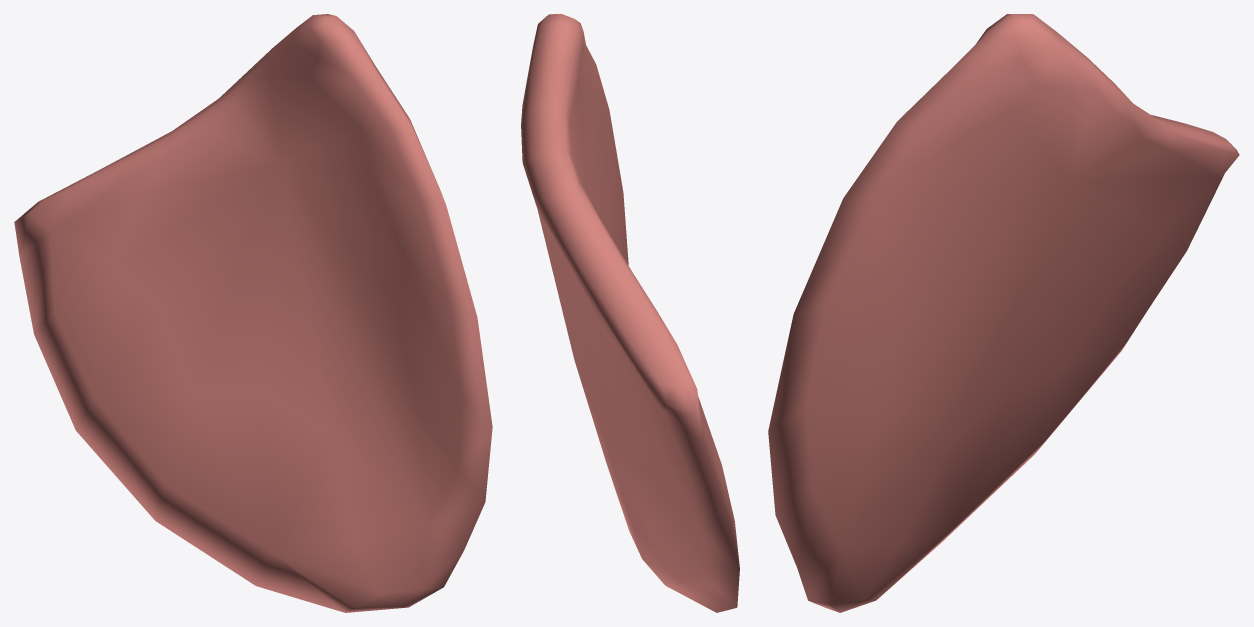
3 views of the same model, side by side, from view 1: azimuth 30°, elevation 25°; view 2: azimuth 150°, elevation 25°; view 3: azimuth 270°, elevation 25° (orthographic). The views are drawn at different scales.
Parts seen in each view (by area): view 1: ZA_18aa1c398e6da549; view 2: ZA_18aa1c398e6da549; view 3: ZA_18aa1c398e6da549.
Part boxes in pixels (left/top/right/bottom): ZA_18aa1c398e6da549: left=14, top=14, right=492, bottom=612; ZA_18aa1c398e6da549: left=521, top=14, right=739, bottom=612; ZA_18aa1c398e6da549: left=768, top=14, right=1239, bottom=612.
Size of the model in its own units: 0.0035 by 0.00644 by 0.00455.
